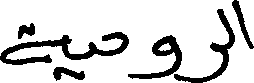ا: (231, 0, 251, 50)
ة: (0, 20, 67, 65)
ح: (100, 29, 126, 57)
ر: (197, 39, 220, 81)
ل: (218, 0, 232, 48)
و: (150, 33, 182, 81)
ي: (56, 40, 94, 82)
